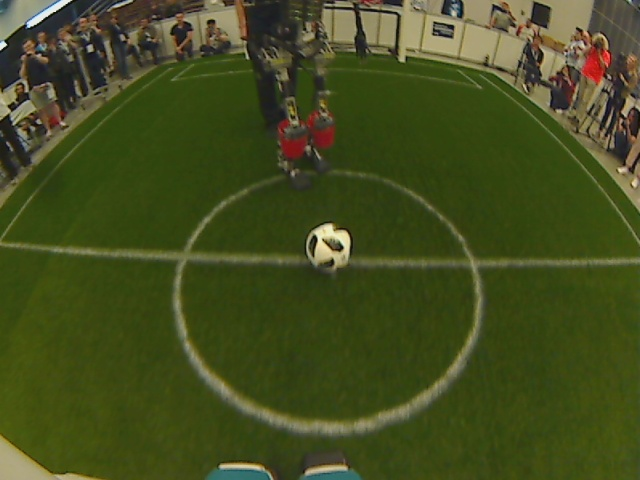ball: (303, 222, 356, 273)
